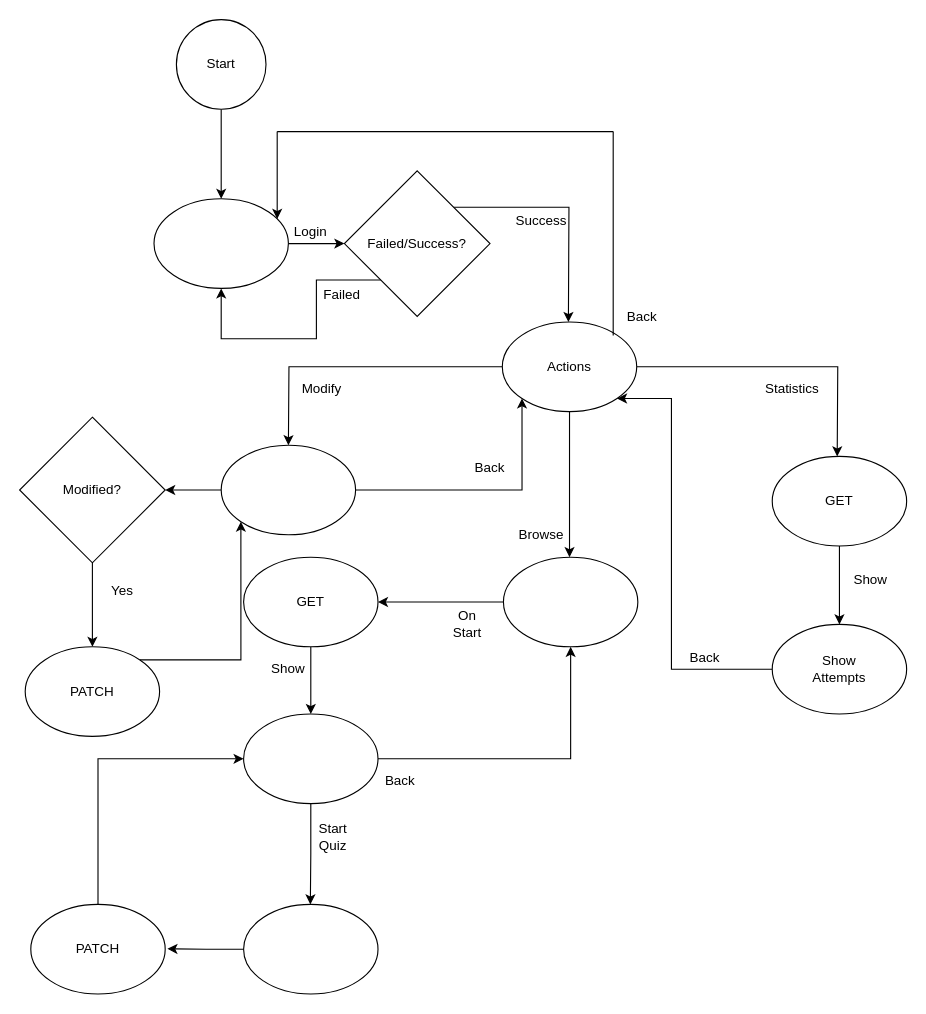
Image size: 926x1014. Some labels were removed from this diagram. Each missing label, with the box of its shape:
index: (153, 198, 288, 288)
Quiz: (242, 903, 378, 994)
Quiz List: (242, 713, 378, 804)
Show Browser: (502, 556, 638, 647)
Show Modifications: (220, 444, 356, 535)
